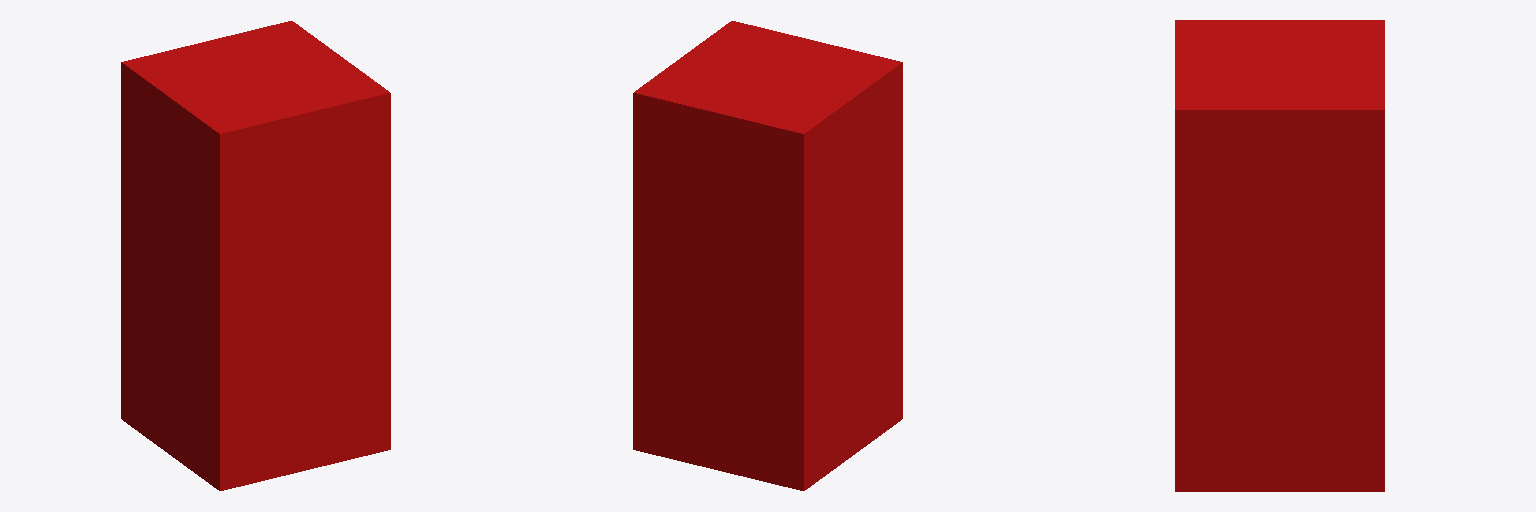
URDF robot description (box_obstacle):
<?xml version="1.0" ?>
<robot name="box_obstacle">
  <link name="world"/>
  
  <link name="obstacle_box_link">
    <inertial>
      <mass value="1.0"/>
      <origin xyz="0 0 0" rpy="0 0 0"/>
      <inertia ixx="0.01" ixy="0.0" ixz="0.0" iyy="0.01" iyz="0.0" izz="0.01"/>
    </inertial>
    <visual>
      <origin xyz="0 0 0" rpy="0 0 0"/>
      <geometry>
        <box size="0.15 0.15 0.3"/>
      </geometry>
      <material name="red">
        <color rgba="0.8 0.1 0.1 0.6"/>
      </material>
    </visual>
    <collision>
      <origin xyz="0 0 0" rpy="0 0 0"/>
      <geometry>
        <box size="0.15 0.15 0.3"/>
      </geometry>
    </collision>
  </link>

  <joint name="obstacle_box_joint" type="fixed">
    <parent link="world"/>
    <child link="obstacle_box_link"/>
    <origin xyz="0.3 0.0 0.15" rpy="0 0 0"/>
  </joint>
</robot>

--- What the picture shows (computed from the rendered views, not written in the file) ---
The picture shows the robot from 3 angles, left to right: view 1: azimuth 30°, elevation 25°; view 2: azimuth 150°, elevation 25°; view 3: azimuth 270°, elevation 25°; orthographic projection.
Robot: box_obstacle — 2 links, 1 joints (1 fixed); root link world; default pose: all joints at 0.
Visible links, largest first — view 1: obstacle_box_link; view 2: obstacle_box_link; view 3: obstacle_box_link.
Link boxes in pixels (x1=…): obstacle_box_link: x1=121, y1=21, x2=390, y2=490; obstacle_box_link: x1=633, y1=21, x2=902, y2=490; obstacle_box_link: x1=1175, y1=20, x2=1384, y2=491.
Bounding box of the posed robot: 0.15 × 0.15 × 0.3 m (x, y, z).
Geometry: primitives only (box / cylinder / sphere), no mesh files.
